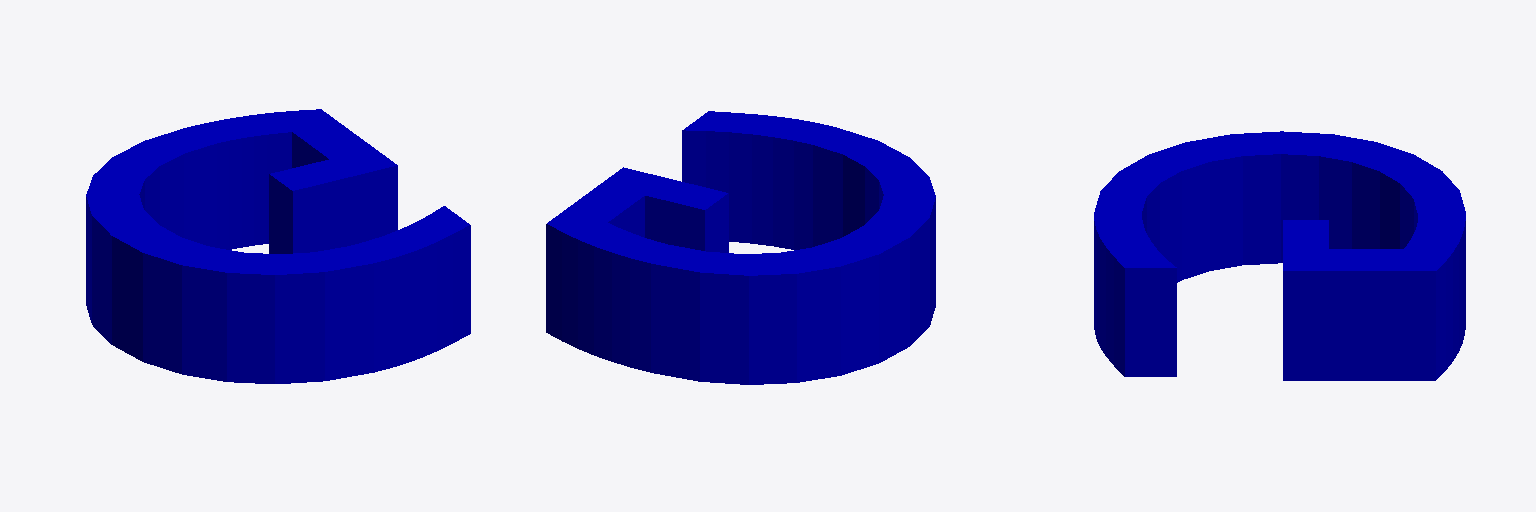
3 views of the same model, side by side, from view 1: azimuth 30°, elevation 25°; view 2: azimuth 150°, elevation 25°; view 3: azimuth 270°, elevation 25° (orthographic).
Visible parts, largest first — view 1: Font_Mesh; view 2: Font_Mesh; view 3: Font_Mesh.
Part boxes in pixels (x1,y1,x2,y2): Font_Mesh: (86, 109, 470, 383); Font_Mesh: (546, 111, 935, 384); Font_Mesh: (1094, 131, 1465, 380).
Bounding box in the file's own units: 5.2 × 1.89 × 5.84.